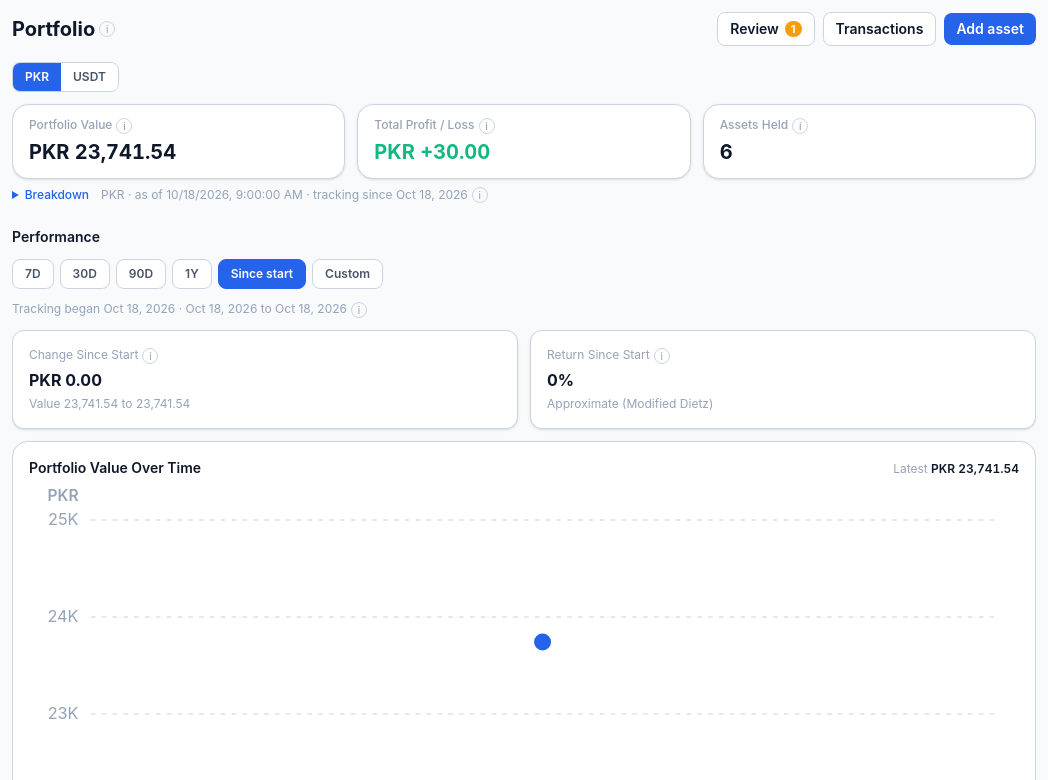
it: Review no longer nags about things the app does itself › a sale larger than the records is one concise line per token, not a list of raw quantities
This screenshot has width=1048, height=780.
Click the button "Review 1".
click(766, 29)  # box left=717, top=12, right=815, bottom=46
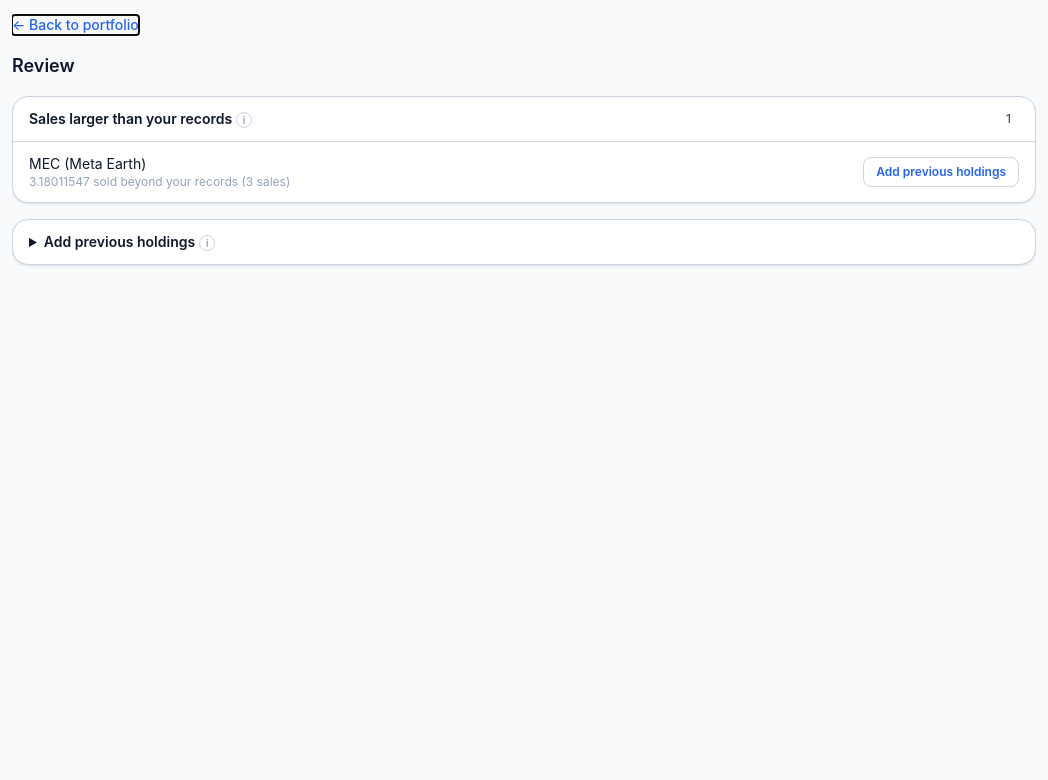
Now the text "3.18011547 sold beyond your records (3 sales)" is shown, box left=29, top=174, right=290, bottom=190
